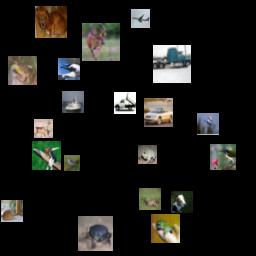airplane: (197, 113, 219, 135), (131, 9, 150, 28)
automobile: (144, 98, 173, 127)
bird: (32, 141, 61, 170), (210, 144, 236, 170), (58, 58, 80, 80), (64, 155, 80, 171)
cat: (1, 200, 23, 222)
deer: (82, 23, 120, 61), (139, 188, 161, 210), (34, 119, 53, 138)
dog: (35, 6, 67, 38), (171, 191, 193, 213)
frog: (78, 216, 113, 251), (151, 214, 180, 243), (8, 56, 37, 85), (138, 145, 157, 164)
ship: (62, 91, 84, 113)
truck: (153, 45, 191, 83), (114, 92, 136, 114)
